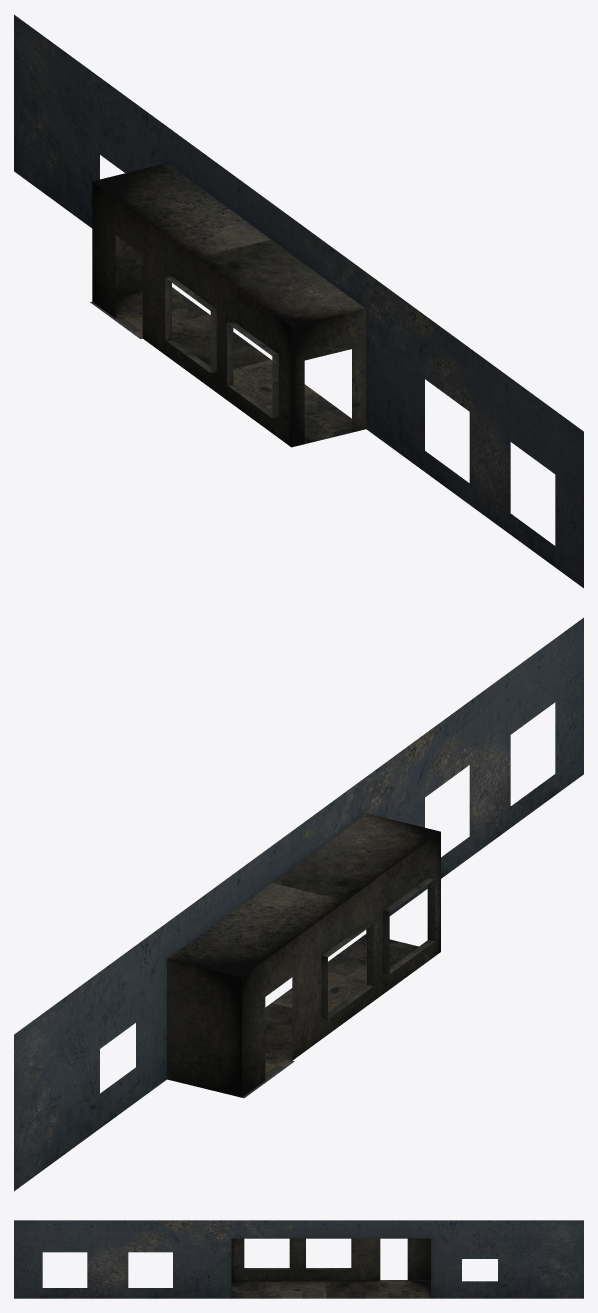
File: Wall_01.FBX
The picture shows the model from 3 angles, top to bottom: view 1: azimuth 30°, elevation 25°; view 2: azimuth 150°, elevation 25°; view 3: azimuth 270°, elevation 25°; orthographic projection. The views are drawn at different scales.
Parts seen in each view (by area): view 1: Wall_01; view 2: Wall_01; view 3: Wall_01.
Part boxes in pixels (x1,y1,x2,y2): Wall_01: [14, 14, 583, 588]; Wall_01: [14, 617, 583, 1191]; Wall_01: [14, 1220, 583, 1298].
Bounding box in the file's own units: 278 × 511 × 3367.
